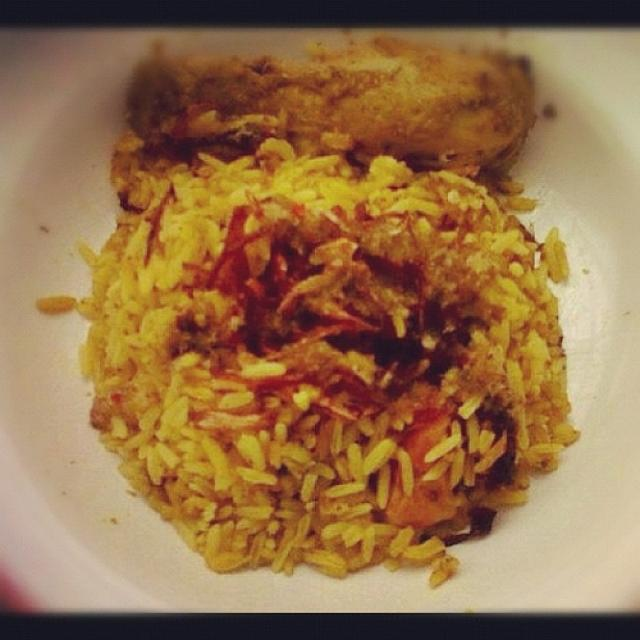米饭主食: (23, 35, 616, 613)
